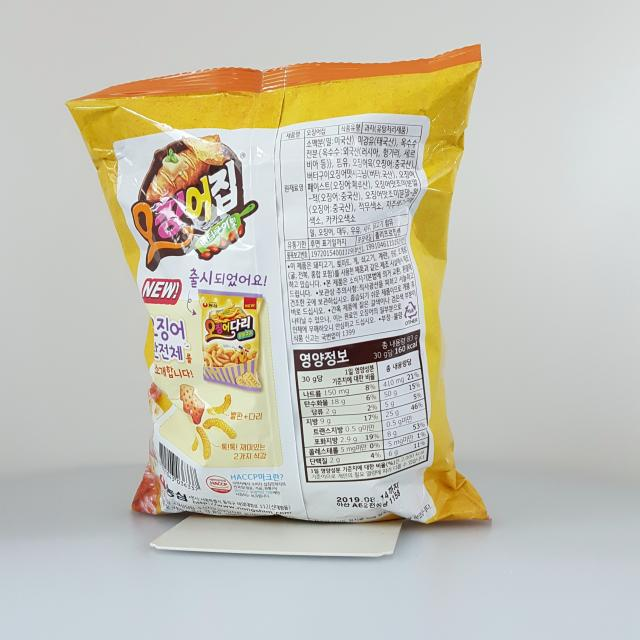-83G: (66, 44, 495, 526)
